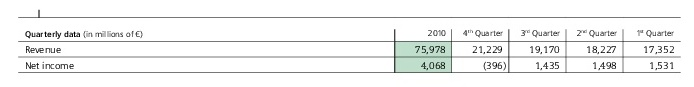table: (0, 0, 694, 87)
